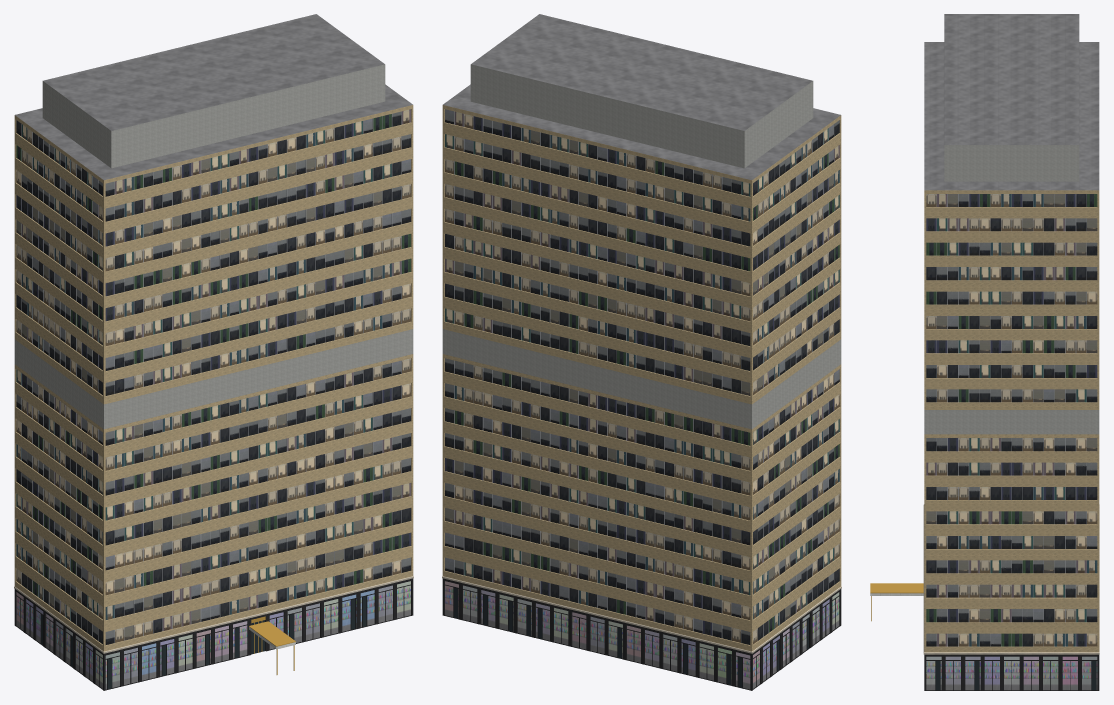
File: hd25_hospital_tower.gltf
The picture shows the model from 3 angles, left to right: view 1: azimuth 30°, elevation 25°; view 2: azimuth 150°, elevation 25°; view 3: azimuth 270°, elevation 25°; orthographic projection.
Parts seen in each view (by area): view 1: hd25_hospital_tower_LOD0; view 2: hd25_hospital_tower_LOD0; view 3: hd25_hospital_tower_LOD0.
Part boxes in pixels (<box>): hd25_hospital_tower_LOD0: <box>14,14,413,690</box>; hd25_hospital_tower_LOD0: <box>442,14,841,690</box>; hd25_hospital_tower_LOD0: <box>870,14,1099,690</box>.
Size of what is drawn, in the model's own units: 52.12 by 88.02 by 34.08.
Materials: 12 (8 with a texture image).
